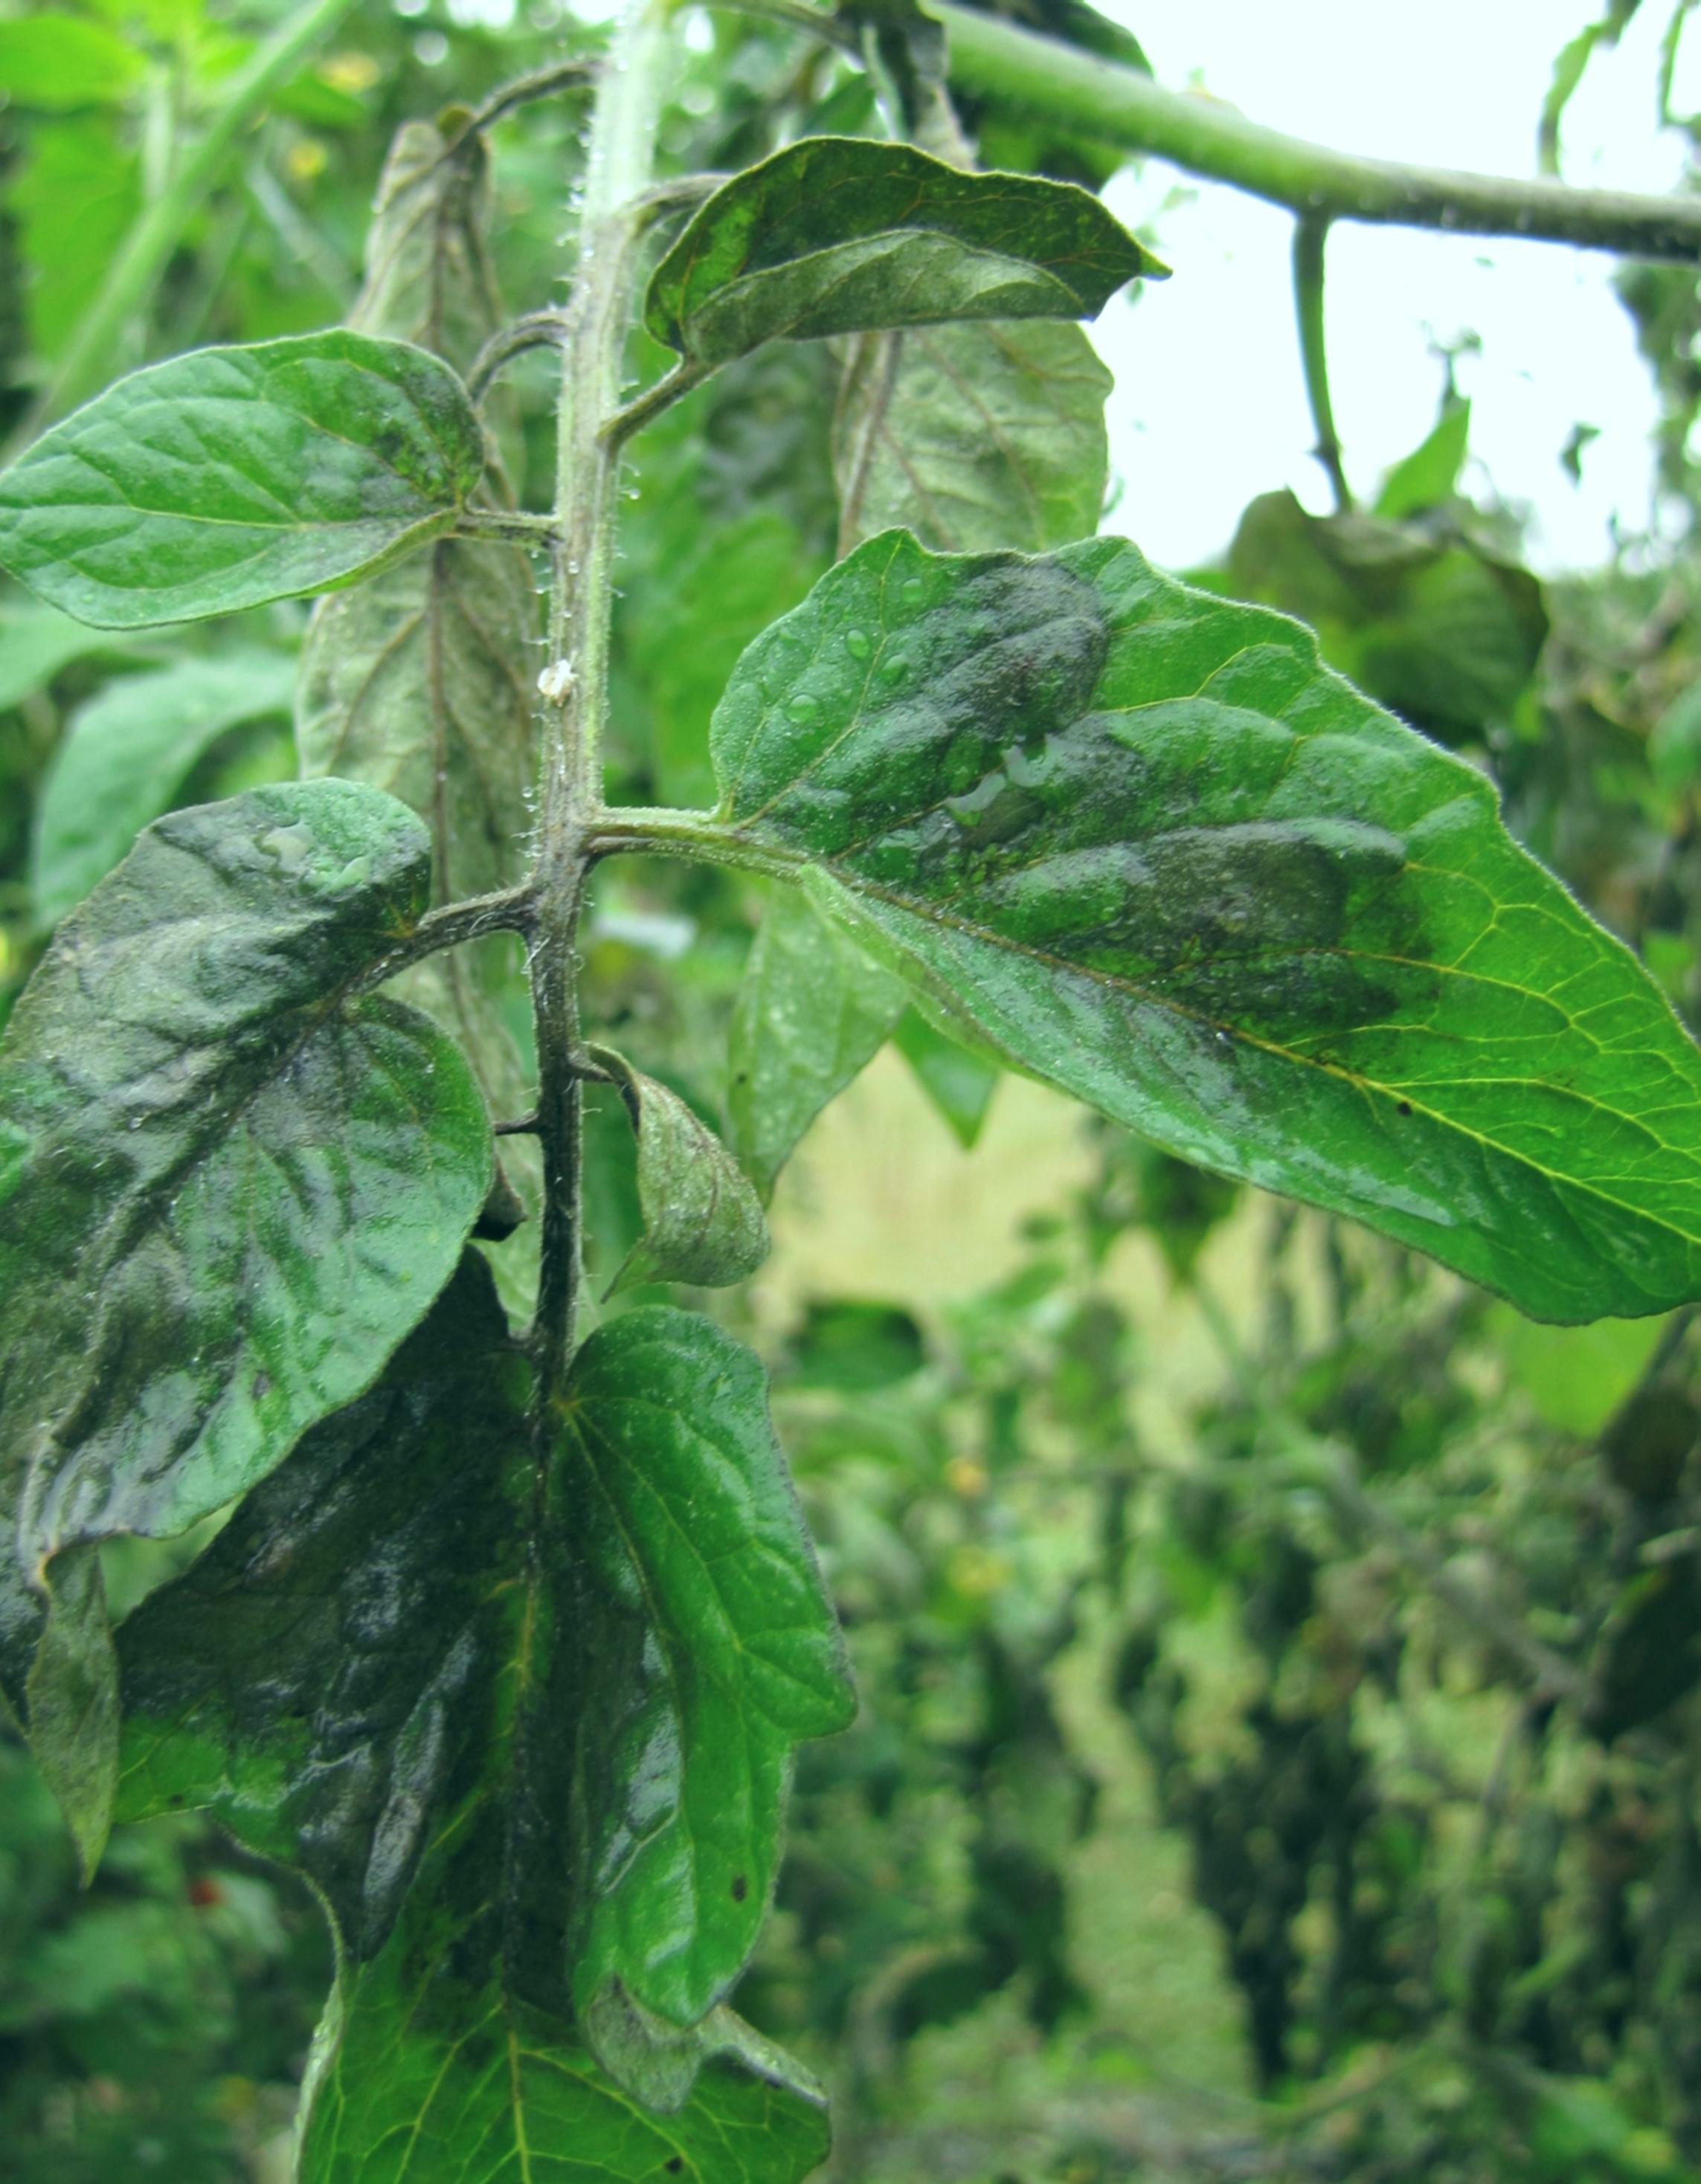Tomato leaf late blight: (704, 512, 1701, 1338), (145, 1267, 894, 2184), (0, 789, 520, 1829)
